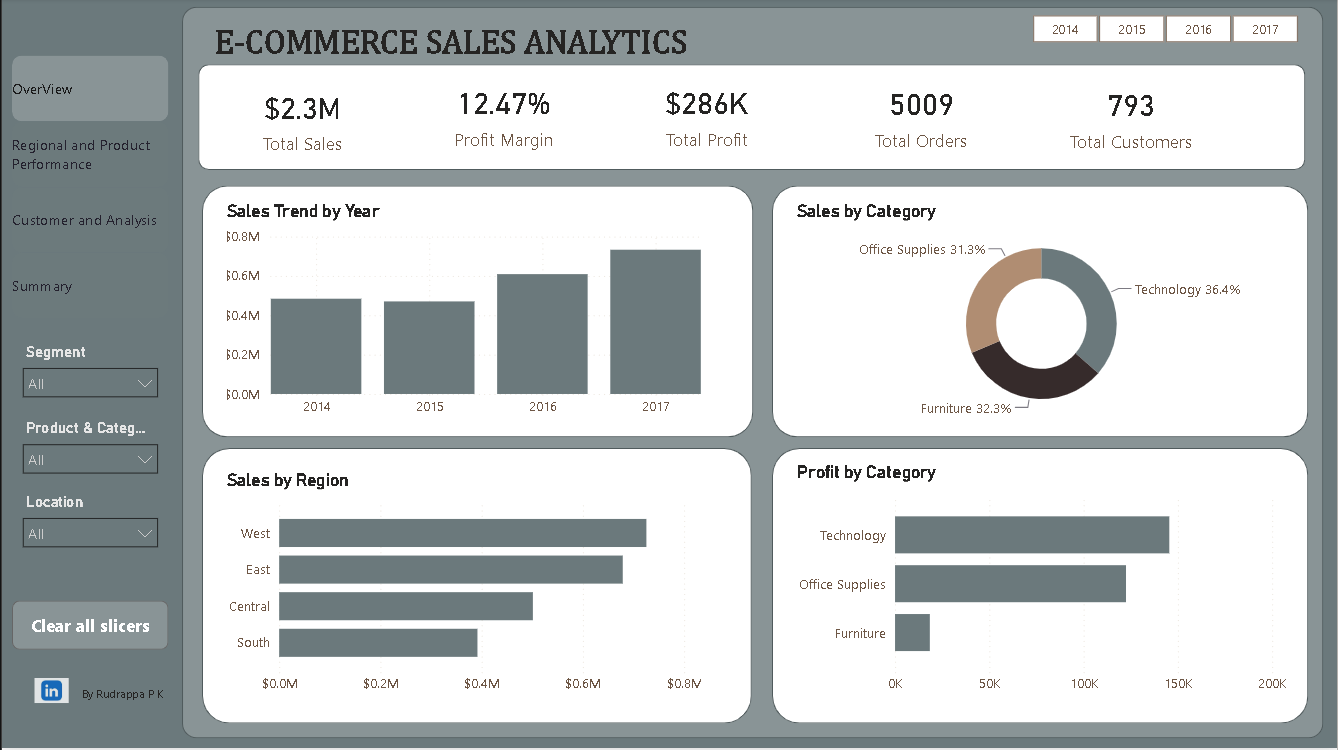

This screenshot's page, from the dashboard's own definition file:
{"tool":"powerbi","page":{"name":"OverView","canvas":[1280,720],"ordinal":0},"visuals":[{"type":"shape","box":[221.7,179.8,516.6,264.9],"z":0},{"type":"shape","box":[172.9,8.6,1094.3,701.4],"z":1000},{"type":"shape","box":[188.2,64,1061.4,101.4],"z":1000,"group":"g1"},{"type":"card","fields":{"Values":["Sample_Superstore_Clean.Total Profit"]},"box":[615.8,64.4,120.1,94.2],"z":2000,"group":"g1"},{"type":"textbox","box":[71.4,651.4,88.6,58.6],"z":2000},{"type":"card","fields":{"Values":["Sample_Superstore_Clean.Total Orders"]},"box":[816.5,65.6,129.4,94.2],"z":2500,"group":"g1"},{"type":"slicer","fields":{"Values":["Sample_Superstore_Clean.Year"]},"box":[962.5,10,303.8,38.8],"z":3000},{"type":"card","fields":{"Values":["Sample_Superstore_Clean.Total Customers"]},"box":[1012.3,66.1,140.4,93.7],"z":3000,"group":"g1"},{"type":"card","fields":{"Values":["Sample_Superstore_Clean.Profit Margin"]},"box":[421.8,64.4,120.1,94.2],"z":4000,"group":"g1"},{"type":"shape","box":[738.6,180,514.3,241.4],"z":4000},{"type":"card","fields":{"Values":["Sample_Superstore_Clean.Total Sales"]},"box":[227.6,68.2,120.6,93.5],"z":5000,"group":"g1"},{"type":"donutChart","title":"Sales by Category","fields":{"Category":["Sample_Superstore_Clean.Category"],"Y":["Sample_Superstore_Clean.Total Sales"]},"box":[757.1,194.3,478.6,215.7],"z":5000},{"type":"shape","box":[191.4,180,528.6,241.4],"z":6000},{"type":"columnChart","title":"Sales Trend by Year","fields":{"Category":["Sample_Superstore_Clean.Year"],"Y":["Sample_Superstore_Clean.Total Sales"]},"box":[211.4,194.3,464.3,215.7],"z":7000},{"type":"shape","box":[191.4,431.4,527.1,264.3],"z":8000},{"type":"clusteredBarChart","title":"Sales by Region","fields":{"Category":["Sample_Superstore_Clean.Region"],"Y":["Sample_Superstore_Clean.Total Sales"]},"box":[211.4,451.4,464.3,224.3],"z":9000},{"type":"shape","box":[738.6,431.4,514.3,264.3],"z":10000},{"type":"barChart","title":"Profit by Category","fields":{"Category":["Sample_Superstore_Clean.Category"],"Y":["Sample_Superstore_Clean.Total Profit"]},"box":[757.1,444.3,478.6,231.4],"z":11000},{"type":"group","id":"g1","title":"Group 1","box":[188.2,64,1061.4,101.4],"z":12000},{"type":"pageNavigator","box":[10,55.7,150,255.7],"z":17001},{"type":"actionButton","box":[10,577.1,150,47.1],"z":17002},{"type":"slicer","fields":{"Values":["Sample_Superstore_Clean.Category","Sample_Superstore_Clean.Sub-Category"]},"box":[10,398.6,150,84.3],"z":17003},{"type":"slicer","fields":{"Values":["Sample_Superstore_Clean.Region","Sample_Superstore_Clean.State"]},"box":[10,470,150,84.3],"z":17004},{"type":"slicer","fields":{"Values":["Sample_Superstore_Clean.Segment"]},"box":[10,325.7,150,71.4],"z":17005},{"type":"image","box":[24.3,651.4,47.1,24.3],"z":17006},{"type":"textbox","box":[198.6,20,568.6,52.9],"z":17007}]}

Visuals, with their boxes on the page's 1280x720 design canvas (x1, y1, x2, y2). These are canvas units, not pixel positions in the 1338x750 screenshot, which may show the page scaled, cropped or inside an application window:
shape: Rect(222, 180, 738, 445)
shape: Rect(173, 9, 1267, 710)
shape: Rect(188, 64, 1250, 165)
card - Sample_Superstore_Clean.Total Profit: Rect(616, 64, 736, 159)
textbox: Rect(71, 651, 160, 710)
card - Sample_Superstore_Clean.Total Orders: Rect(816, 66, 946, 160)
slicer - Sample_Superstore_Clean.Year: Rect(962, 10, 1266, 49)
card - Sample_Superstore_Clean.Total Customers: Rect(1012, 66, 1153, 160)
card - Sample_Superstore_Clean.Profit Margin: Rect(422, 64, 542, 159)
shape: Rect(739, 180, 1253, 421)
card - Sample_Superstore_Clean.Total Sales: Rect(228, 68, 348, 162)
"Sales by Category" donutChart: Rect(757, 194, 1236, 410)
shape: Rect(191, 180, 720, 421)
"Sales Trend by Year" columnChart: Rect(211, 194, 676, 410)
shape: Rect(191, 431, 718, 696)
"Sales by Region" clusteredBarChart: Rect(211, 451, 676, 676)
shape: Rect(739, 431, 1253, 696)
"Profit by Category" barChart: Rect(757, 444, 1236, 676)
"Group 1" group: Rect(188, 64, 1250, 165)
pageNavigator: Rect(10, 56, 160, 311)
actionButton: Rect(10, 577, 160, 624)
slicer - Sample_Superstore_Clean.Category x Sample_Superstore_Clean.Sub-Category: Rect(10, 399, 160, 483)
slicer - Sample_Superstore_Clean.Region x Sample_Superstore_Clean.State: Rect(10, 470, 160, 554)
slicer - Sample_Superstore_Clean.Segment: Rect(10, 326, 160, 397)
image: Rect(24, 651, 71, 676)
textbox: Rect(199, 20, 767, 73)
